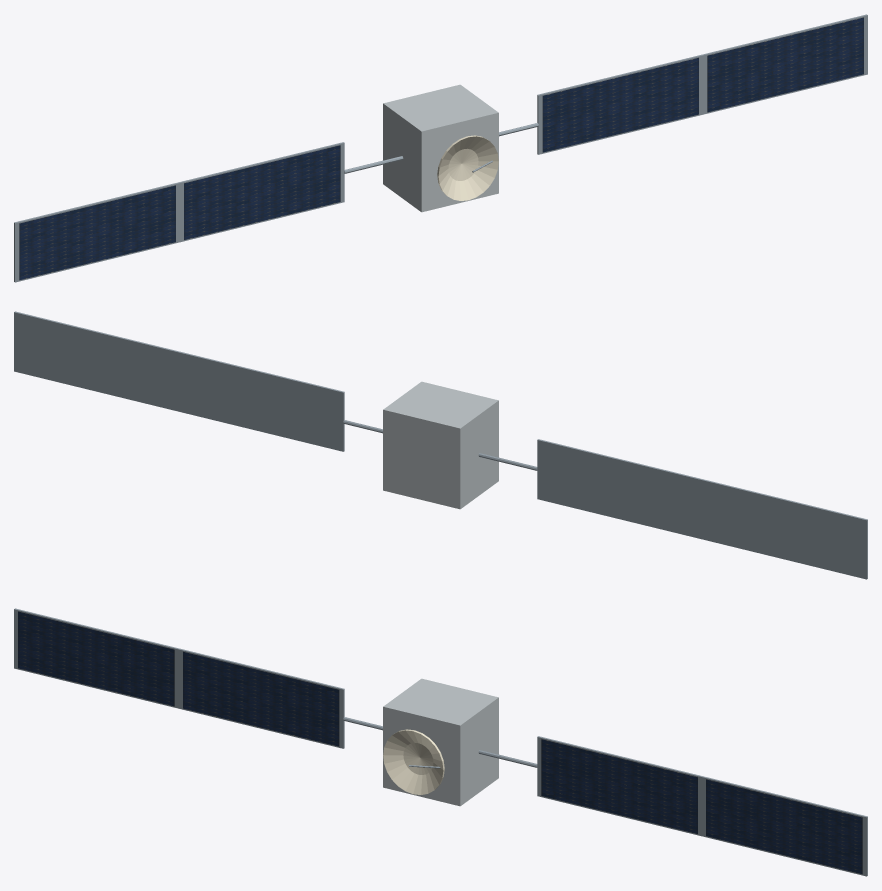
Rendered from ref-eurostar-2000-28943.glb.
3 renders of one model, top to bottom at view 1: azimuth 30°, elevation 25°; view 2: azimuth 150°, elevation 25°; view 3: azimuth 330°, elevation 25°, orthographic.
Parts seen in each view (by area): view 1: Photovoltaic laminates (×4), Spacecraft body, Array frame (×4), Reflector dish; view 2: Array frame (×4), Spacecraft body; view 3: Photovoltaic laminates (×4), Spacecraft body, Array frame (×4), Reflector dish.
Boxes of the visible parts, x1=… form: Photovoltaic laminates (×4): x1=19, y1=17, x2=863, y2=280; Spacecraft body: x1=383, y1=84, x2=498, y2=212; Array frame (×4): x1=14, y1=14, x2=867, y2=282; Reflector dish: x1=437, y1=135, x2=498, y2=200; Array frame (×4): x1=14, y1=311, x2=867, y2=579; Spacecraft body: x1=383, y1=381, x2=498, y2=509; Photovoltaic laminates (×4): x1=18, y1=611, x2=862, y2=874; Spacecraft body: x1=383, y1=678, x2=498, y2=806; Array frame (×4): x1=14, y1=608, x2=867, y2=876; Reflector dish: x1=383, y1=729, x2=444, y2=794.
Size of the model in its own units: 32 by 2.9 by 3.35.
4 materials, 1 textured.
